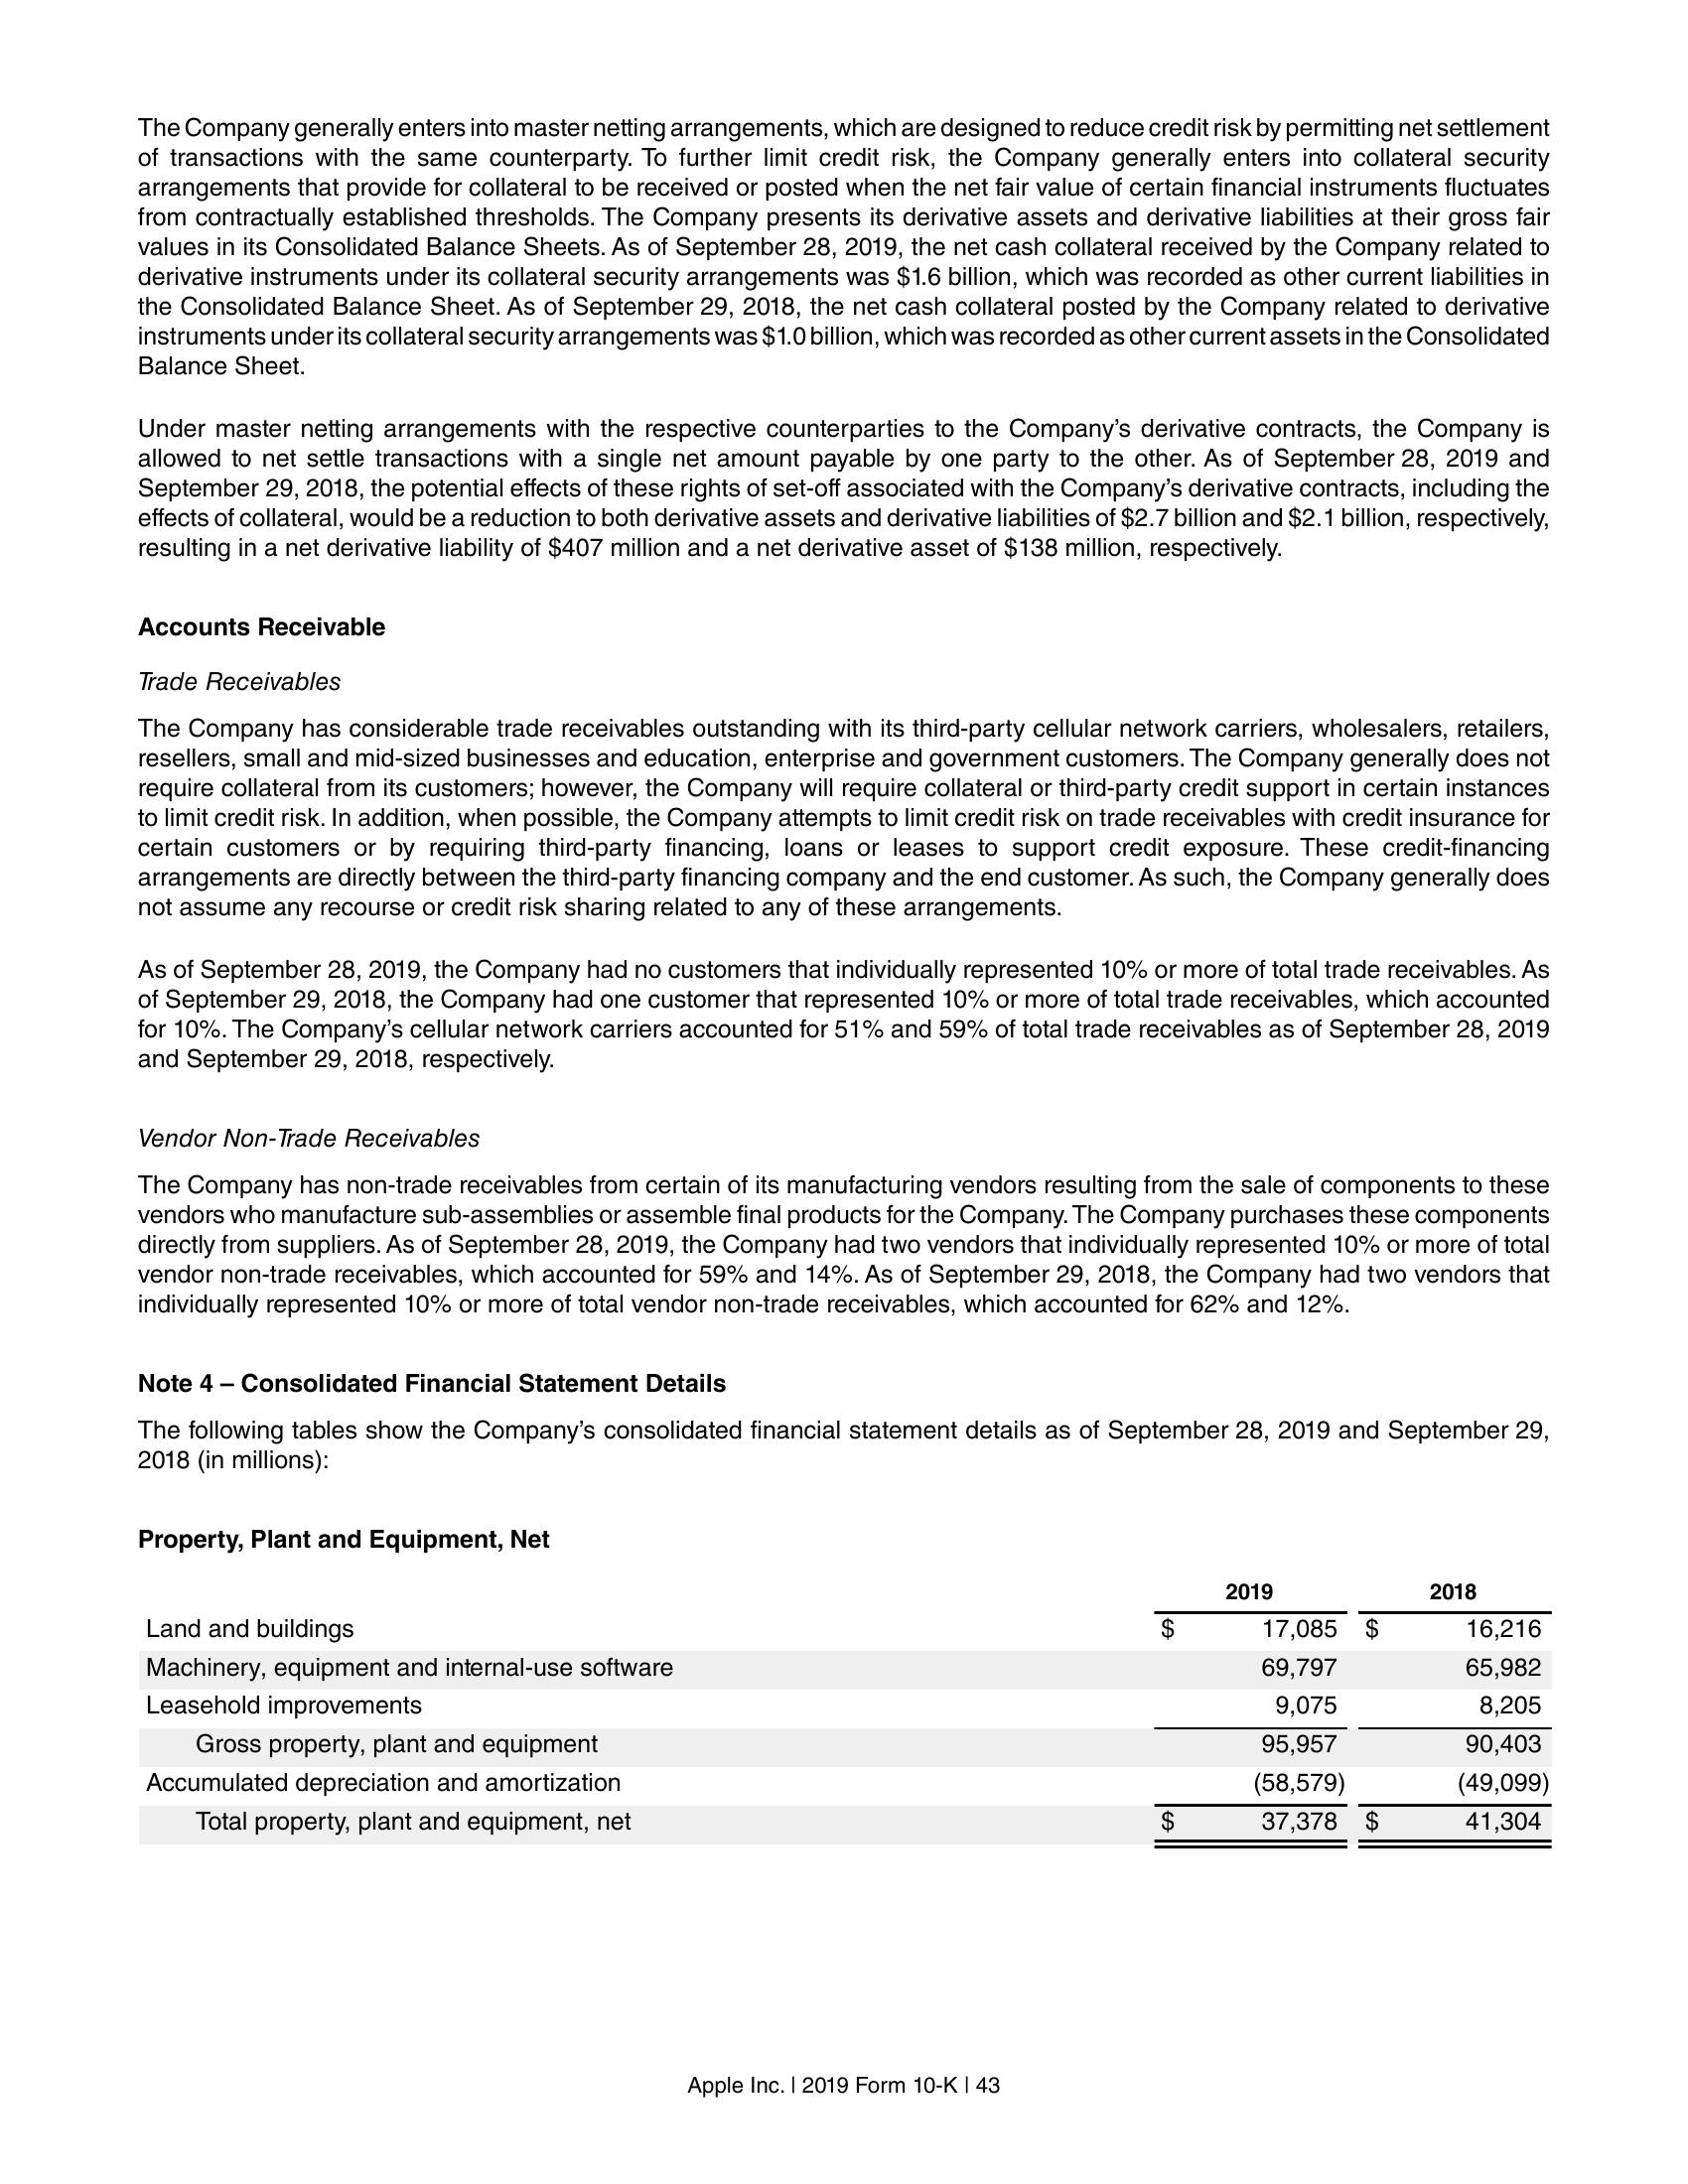table: (135, 1576, 1560, 1854)
